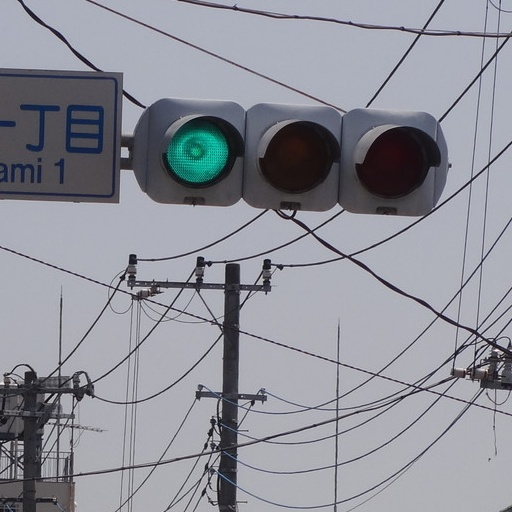Traffic_Signal_Blue: (133, 93, 449, 219)
